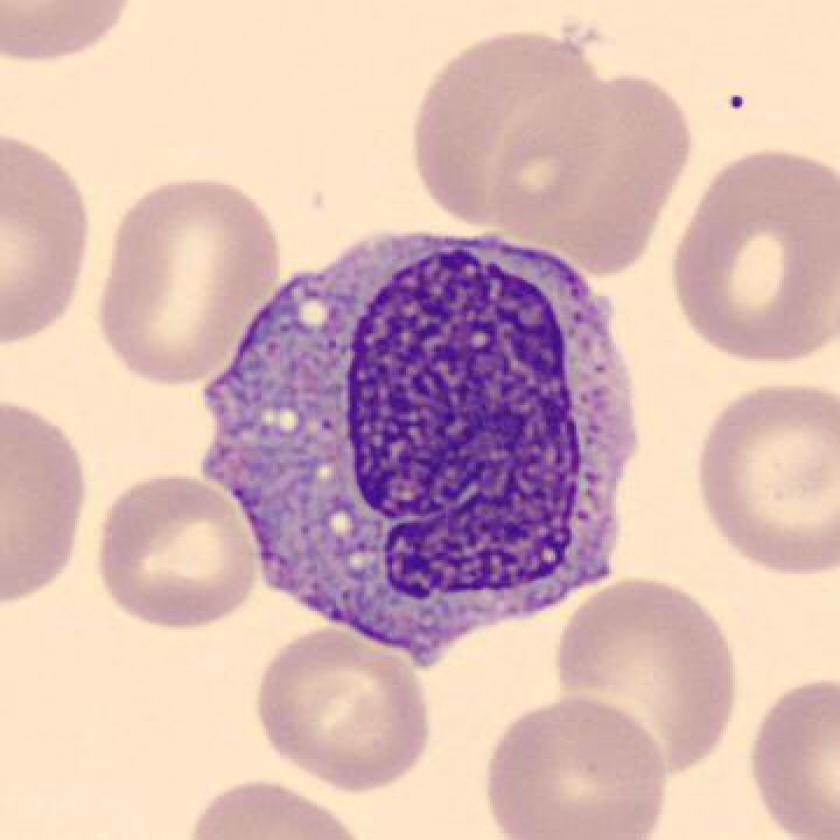monocyte: (190, 207, 659, 686)
